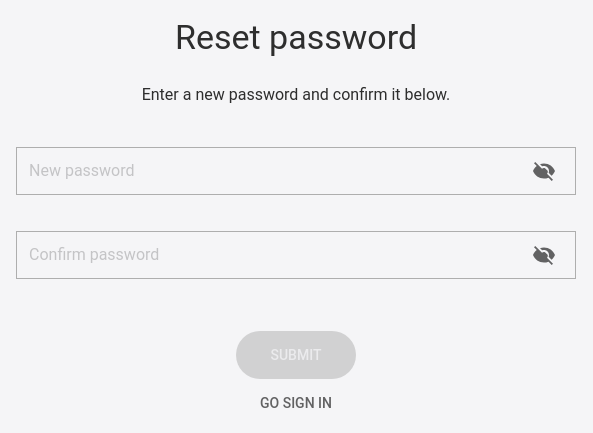
Test: ResetPasswordPage › shows mismatch error and does not submit when passwords differ
Type "123456" into the password field with placeholder "New password" at (296, 171), box [16,147,576,195]
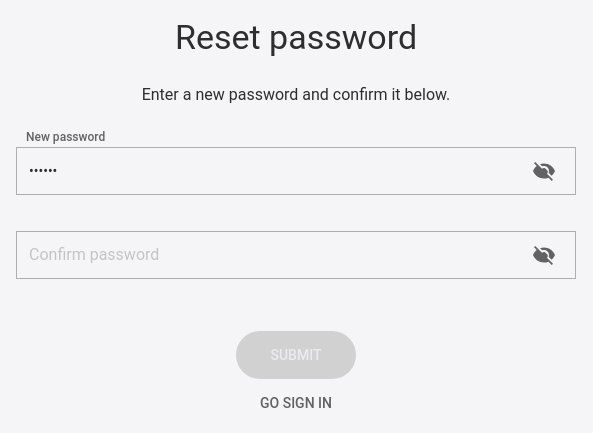
Type "123457" into the password field with placeholder "Confirm password" at (296, 255), box [16,231,576,279]
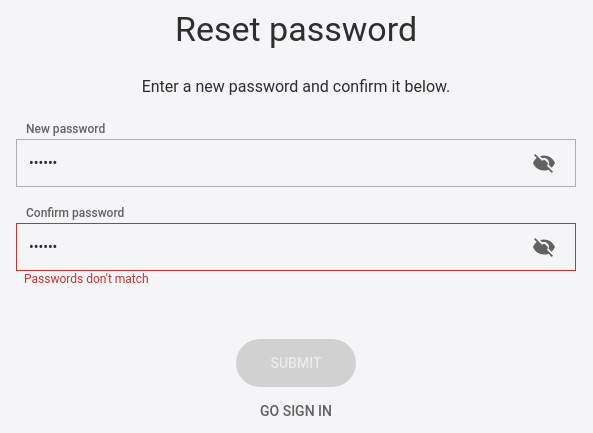
Expected: the button "Submit" is disabled, [236,339,356,387]
Result: the text "Passwords don't match" is shown at [24,272,149,286]
